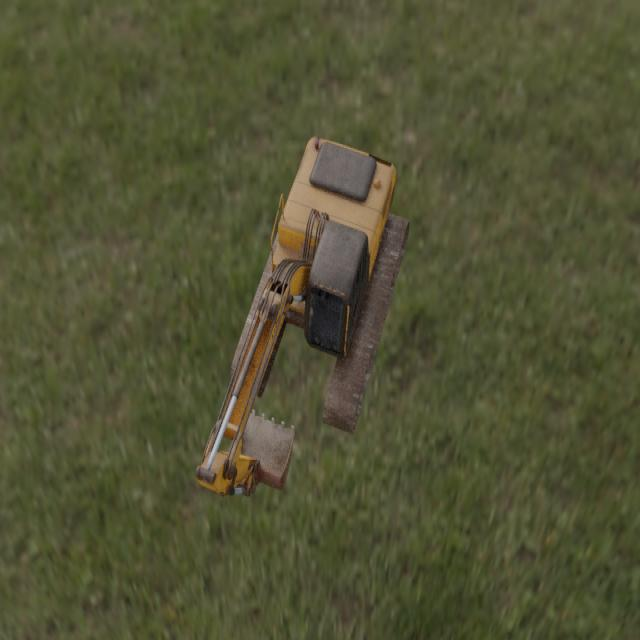excavator: (194, 135, 410, 497)
